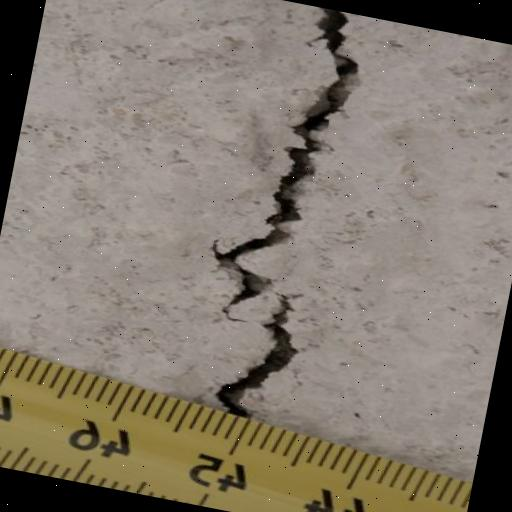spalling: (191, 9, 371, 411)
